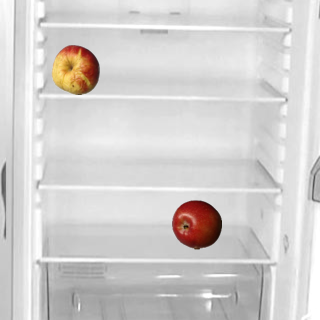Apple Braeburn: (171, 199, 221, 249)
Apple Red Yellow 1: (50, 44, 100, 94)
